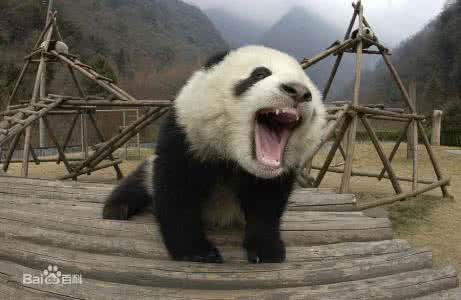panda: (99, 41, 333, 275)
